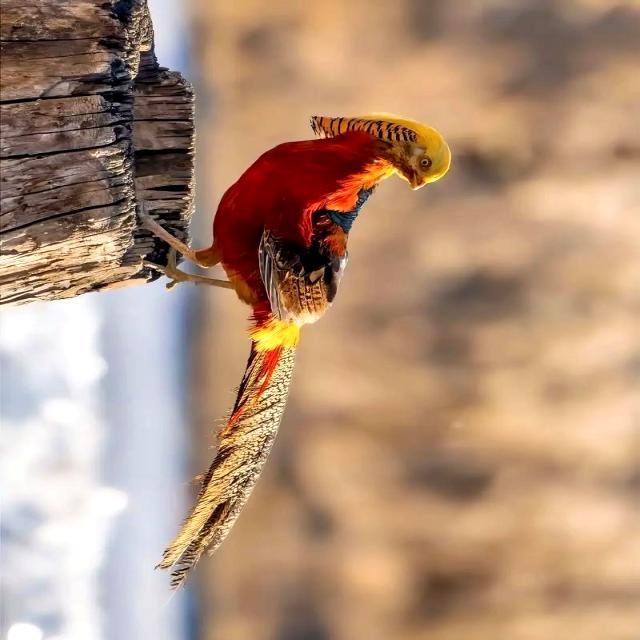Chrysolophus pictus feather: (154, 347, 296, 605)
